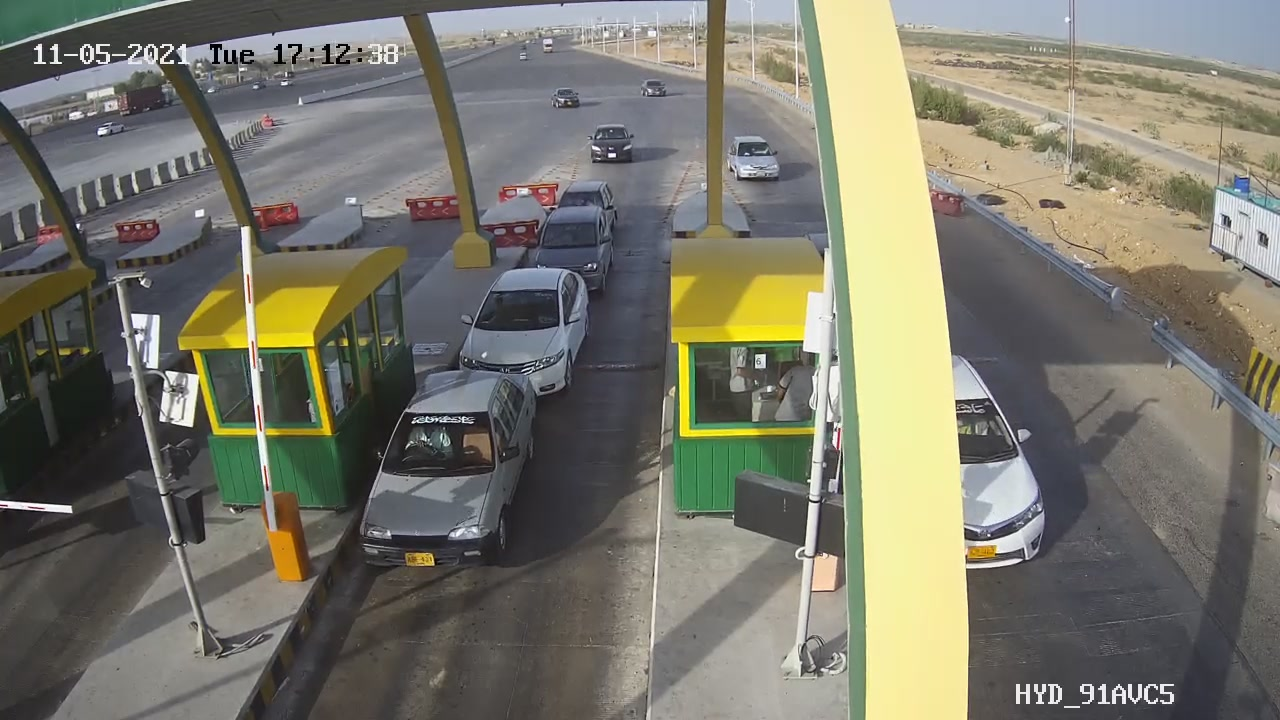F1: (339, 346, 556, 586), (447, 252, 604, 411)
